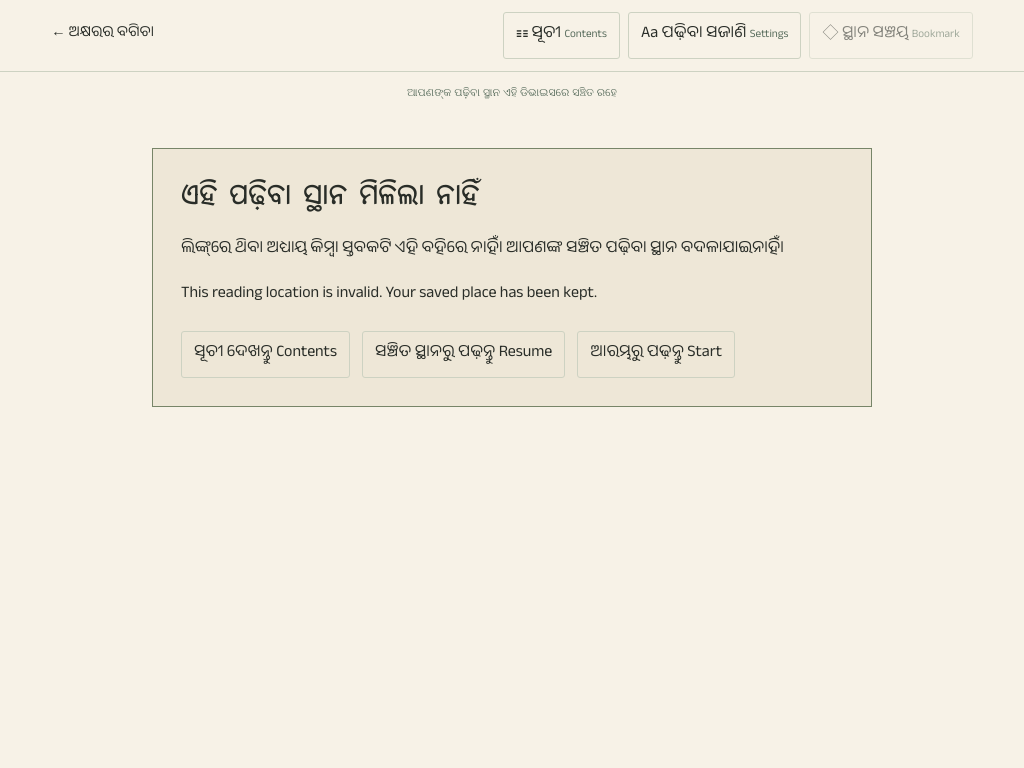
recovers invalid links by explicitly resuming the preserved position
The image size is (1024, 768).
Click the button "ସଞ୍ଚିତ ସ୍ଥାନରୁ ପଢ଼ନ୍ତୁ Resume". click: (464, 355)
box: top-left (362, 331), bottom-right (565, 378)
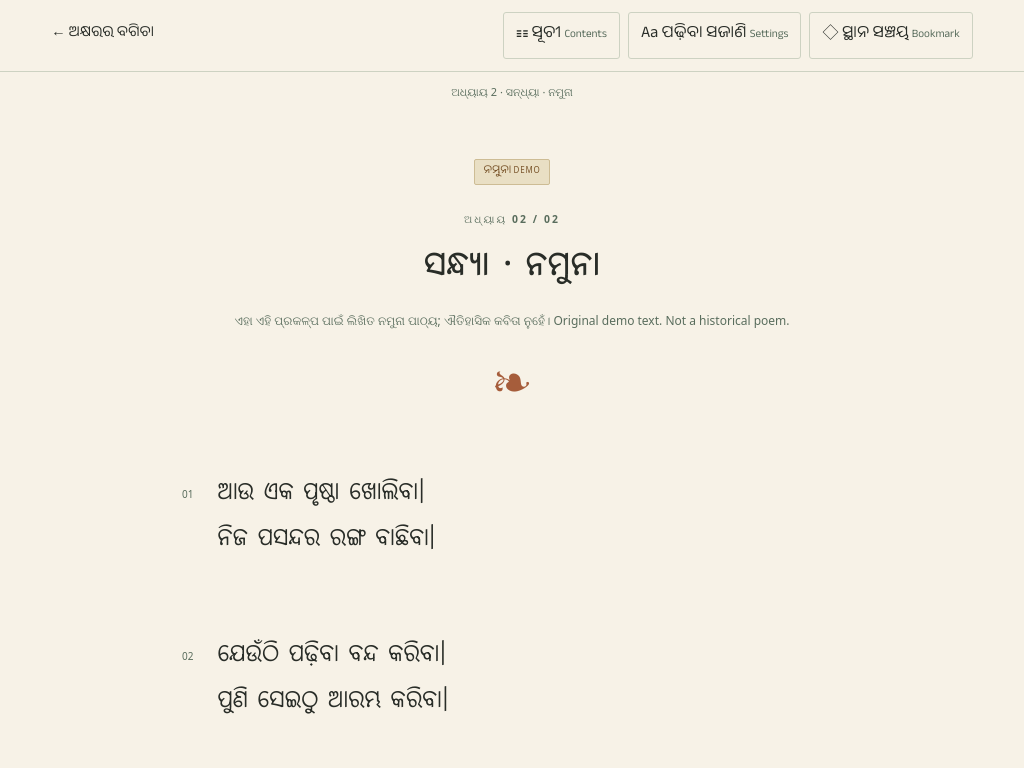
Check: the heading "ସନ୍ଧ୍ୟା · ନମୁନା" is shown, box top-left (424, 244), bottom-right (600, 292)
